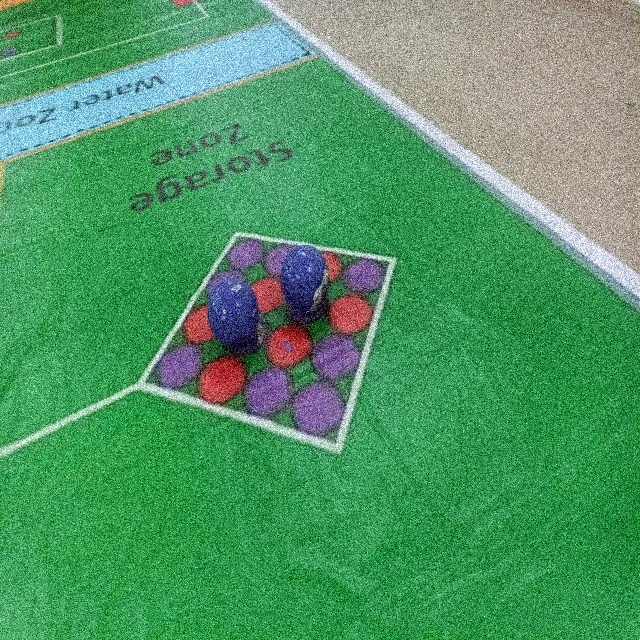purple_ball: (202, 275, 262, 355), (280, 242, 332, 324)
